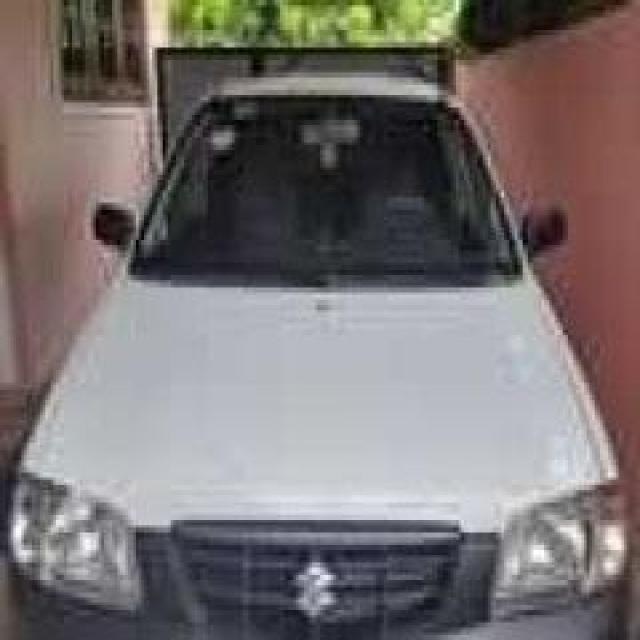car: (0, 52, 632, 637)
